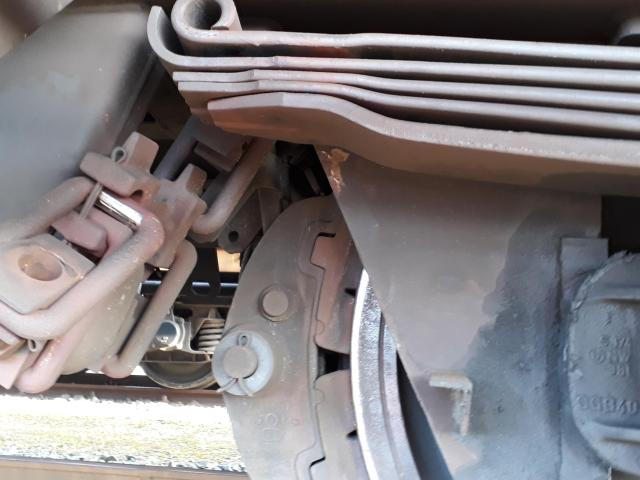blattfederww: (140, 1, 640, 165)
